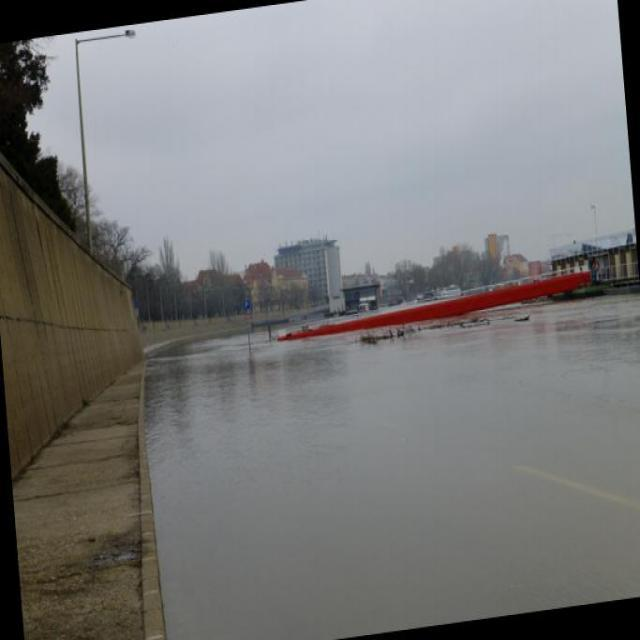flood: (132, 260, 639, 639)
